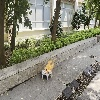fire: (44, 58, 55, 73)
